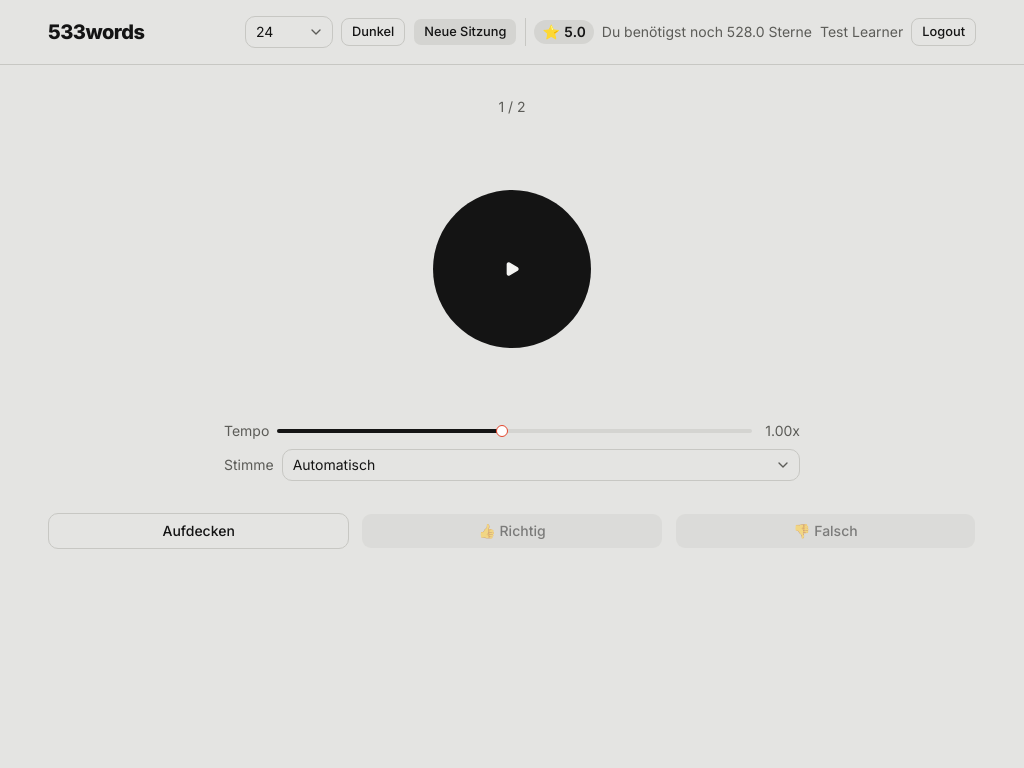
Test: Home practice screen › star badge › does not change the badge when the flag write fails
The image size is (1024, 768).
Check: the text "5.0" is shown, box [564,23,586,40]
Click the button "Aufdecken". click: coordinates (199, 531)
box: [48,513,349,549]
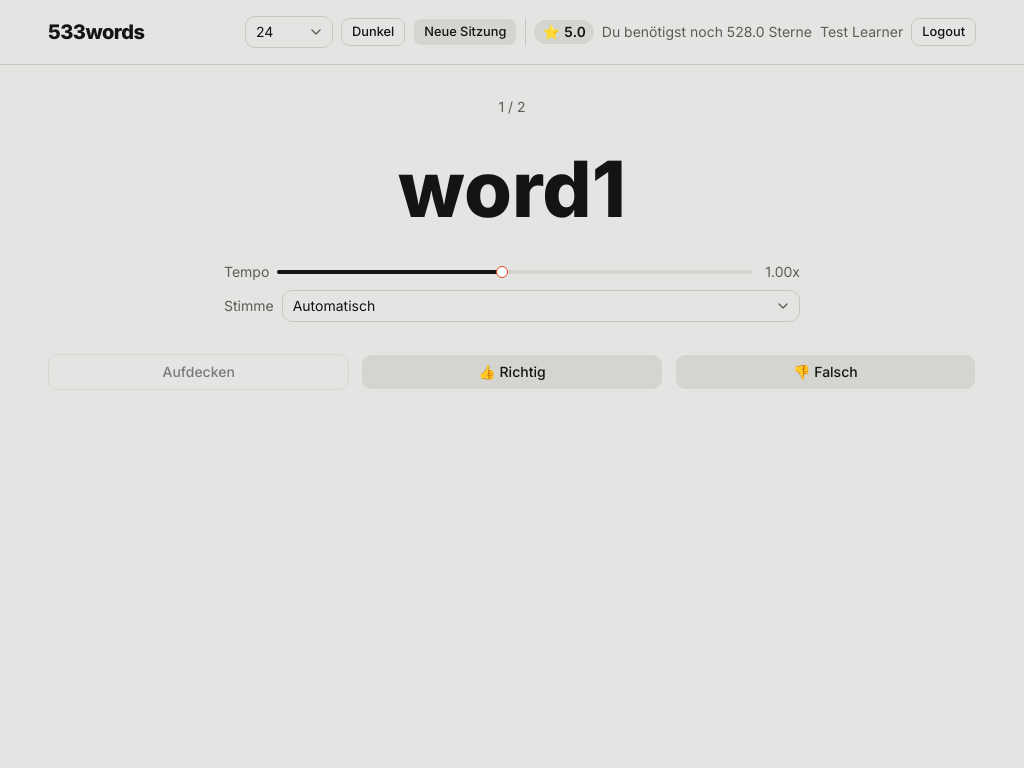
Click the button "👍 Richtig". click: coordinates (512, 372)
box: [361,354,663,390]
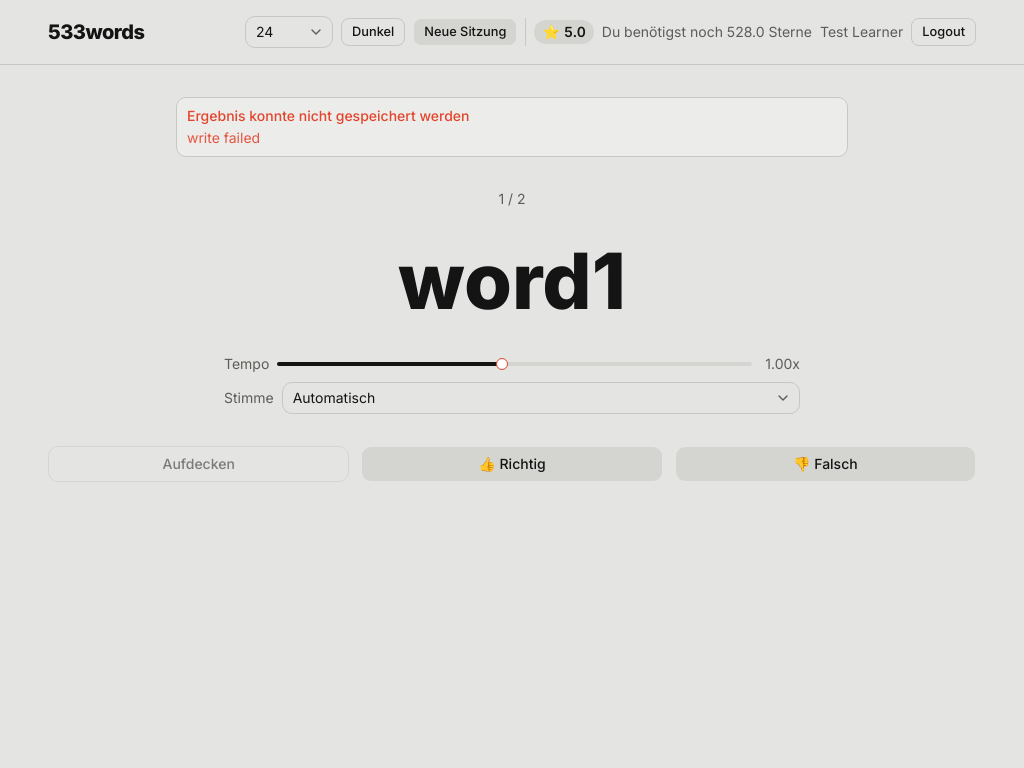
Check: the text "5.0" is shown, box [564,23,586,40]
Check: the message "Ergebnis konnte nicht gespeichert werden write failed" is shown, box [176,97,848,157]
